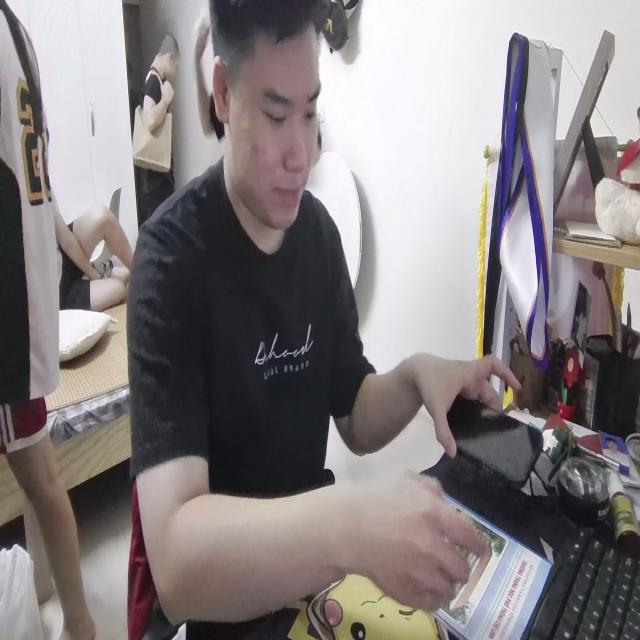book: (426, 482, 552, 640)
extra_person: (0, 0, 98, 640), (127, 28, 186, 232)
phone: (443, 382, 537, 491)
student: (120, 0, 522, 640)
